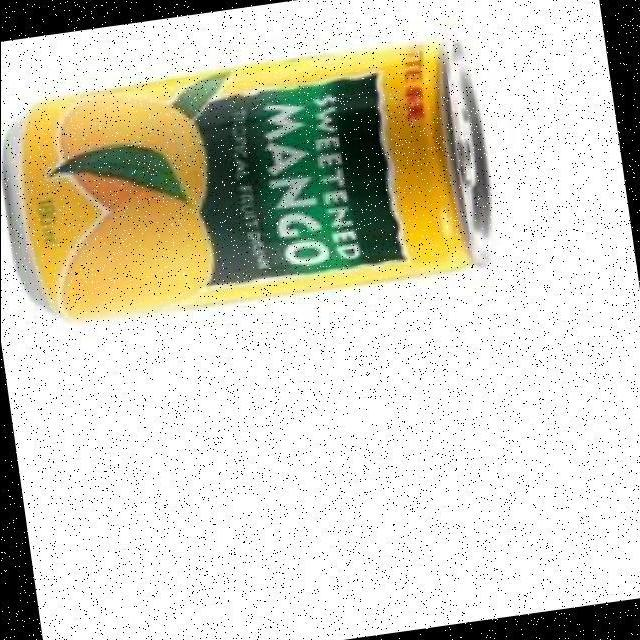can: (0, 2, 548, 368)
